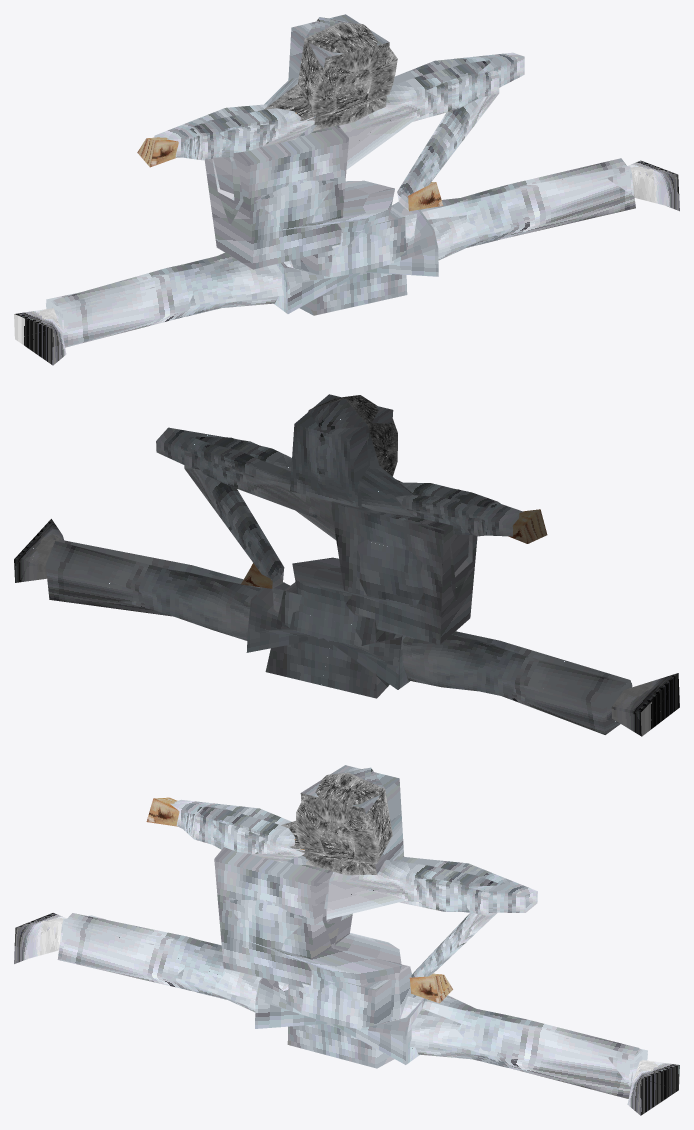
Rendered from CsnowbondZ.obj.
The picture shows the model from 3 angles, top to bottom: view 1: azimuth 30°, elevation 25°; view 2: azimuth 150°, elevation 25°; view 3: azimuth 330°, elevation 25°; orthographic projection.
Bounding box in the file's own units: 2307 × 952 × 314.
Materials: 19 (19 with a texture image).
